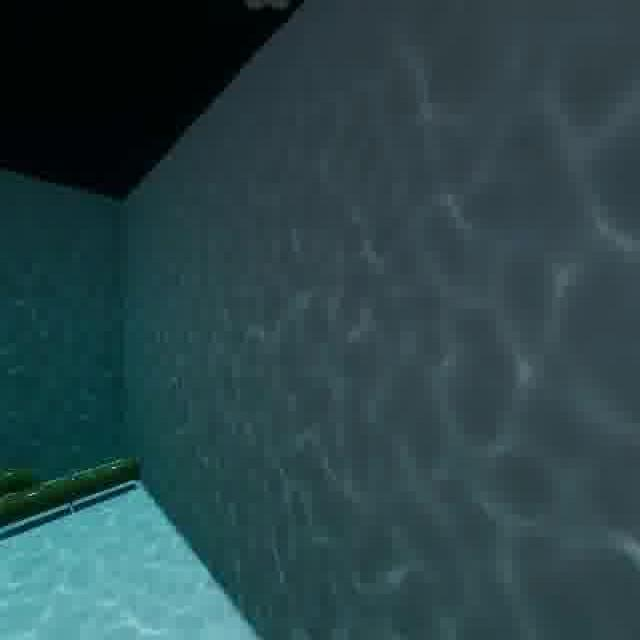Pipe: (0, 438, 146, 538)
